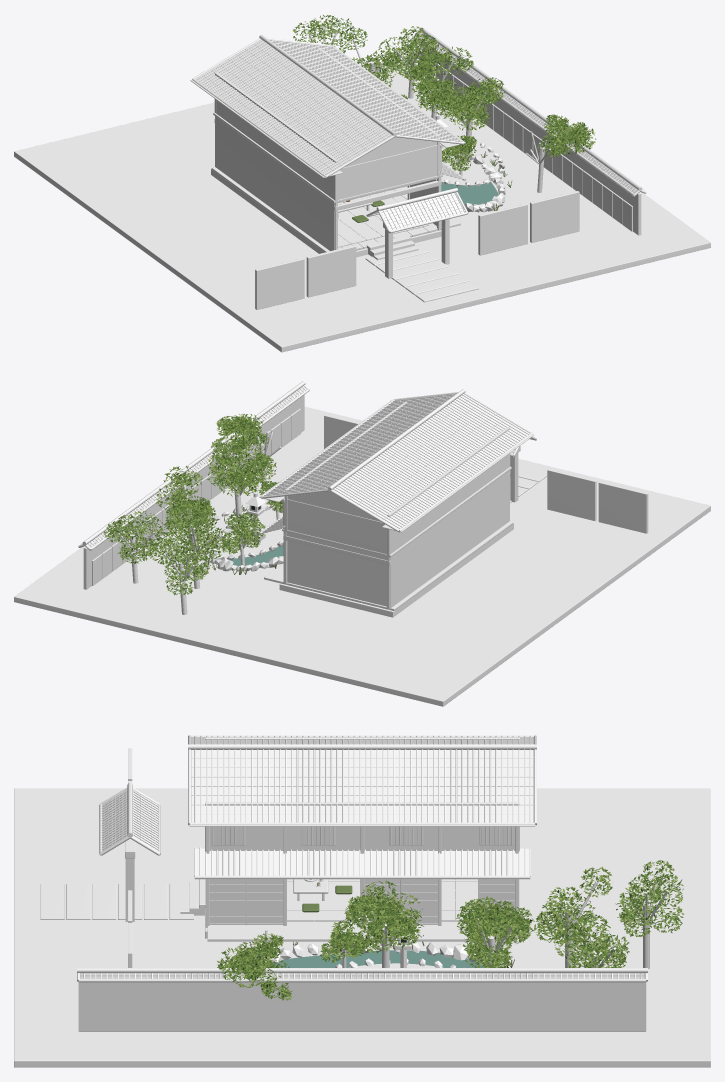
File: chitanda_visual.glb
3 views of the same model, one above another, from view 1: azimuth 30°, elevation 25°; view 2: azimuth 150°, elevation 25°; view 3: azimuth 270°, elevation 25° (orthographic). The views are drawn at different scales.
Parts seen in each view (by area): view 1: VIS_Architecture_earth, VIS_Architecture_tile, VIS_Architecture_wood, VIS_Architecture_plaster, VIS_Garden_leafdeep_leafmid_leafsun, VIS_Architecture_darkwood, VIS_Architecture_concrete, VIS_Architecture_stone, VIS_Architecture_tatami, VIS_Garden_darkwood, VIS_Garden_stone, VIS_Garden_earth (+1 smaller); view 2: VIS_Architecture_earth, VIS_Architecture_tile, VIS_Architecture_plaster, VIS_Garden_leafdeep_leafmid_leafsun, VIS_Architecture_wood, VIS_Architecture_darkwood, VIS_Architecture_paper, VIS_Garden_darkwood, VIS_Garden_stone, VIS_Architecture_stone, VIS_Garden_earth, VIS_Architecture_concrete; view 3: VIS_Architecture_earth, VIS_Architecture_tile, VIS_Architecture_plaster, VIS_Garden_leafdeep_leafmid_leafsun, VIS_Architecture_darkwood, VIS_Architecture_paper, VIS_Architecture_wood, VIS_Architecture_concrete, VIS_Architecture_tatami, VIS_Garden_darkwood, VIS_Garden_water, VIS_Garden_stone (+2 smaller).
Boxes of the visible parts, box(x1,y1,x2,y2) form: VIS_Architecture_earth: box(14, 54, 710, 352); VIS_Architecture_tile: box(195, 27, 642, 230); VIS_Architecture_wood: box(190, 45, 632, 309); VIS_Architecture_plaster: box(214, 41, 641, 250); VIS_Garden_leafdeep_leafmid_leafsun: box(292, 15, 596, 170); VIS_Architecture_darkwood: box(192, 32, 646, 278); VIS_Architecture_concrete: box(365, 245, 478, 302); VIS_Architecture_stone: box(211, 169, 441, 260); VIS_Architecture_tatami: box(338, 192, 429, 247); VIS_Garden_darkwood: box(308, 27, 555, 192); VIS_Garden_stone: box(434, 114, 505, 212); VIS_Garden_earth: box(441, 143, 501, 185); VIS_Architecture_earth: box(14, 406, 710, 706); VIS_Architecture_tile: box(82, 381, 529, 547); VIS_Architecture_plaster: box(83, 395, 510, 608); VIS_Garden_leafdeep_leafmid_leafsun: box(103, 413, 282, 595); VIS_Architecture_wood: box(92, 399, 648, 610); VIS_Architecture_darkwood: box(78, 385, 536, 609); VIS_Architecture_paper: box(287, 541, 386, 605); VIS_Garden_darkwood: box(117, 431, 282, 614); VIS_Garden_stone: box(196, 492, 283, 571); VIS_Architecture_stone: box(279, 523, 513, 617); VIS_Garden_earth: box(200, 509, 283, 558); VIS_Architecture_concrete: box(510, 467, 547, 502); VIS_Architecture_earth: box(14, 788, 710, 1067); VIS_Architecture_tile: box(77, 735, 647, 978); VIS_Architecture_plaster: box(78, 737, 646, 1031); VIS_Garden_leafdeep_leafmid_leafsun: box(217, 860, 684, 1000); VIS_Architecture_darkwood: box(77, 735, 647, 982); VIS_Architecture_paper: box(209, 879, 515, 923); VIS_Architecture_wood: box(128, 748, 535, 967); VIS_Architecture_concrete: box(40, 883, 193, 919); VIS_Architecture_tatami: box(287, 879, 477, 921); VIS_Garden_darkwood: box(236, 876, 668, 968); VIS_Garden_water: box(272, 950, 486, 967); VIS_Garden_stone: box(260, 933, 500, 967).
Bounding box in the file's own units: 25 × 7.06 × 27.
